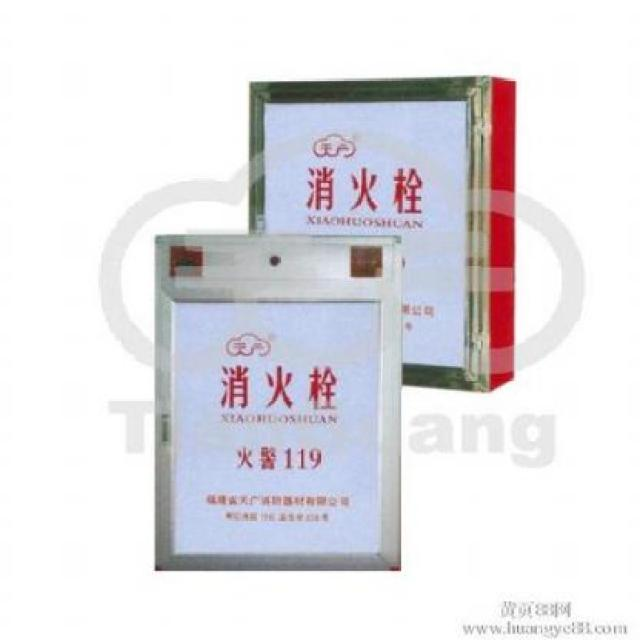firehydrant: (244, 71, 520, 396), (151, 225, 406, 576)
